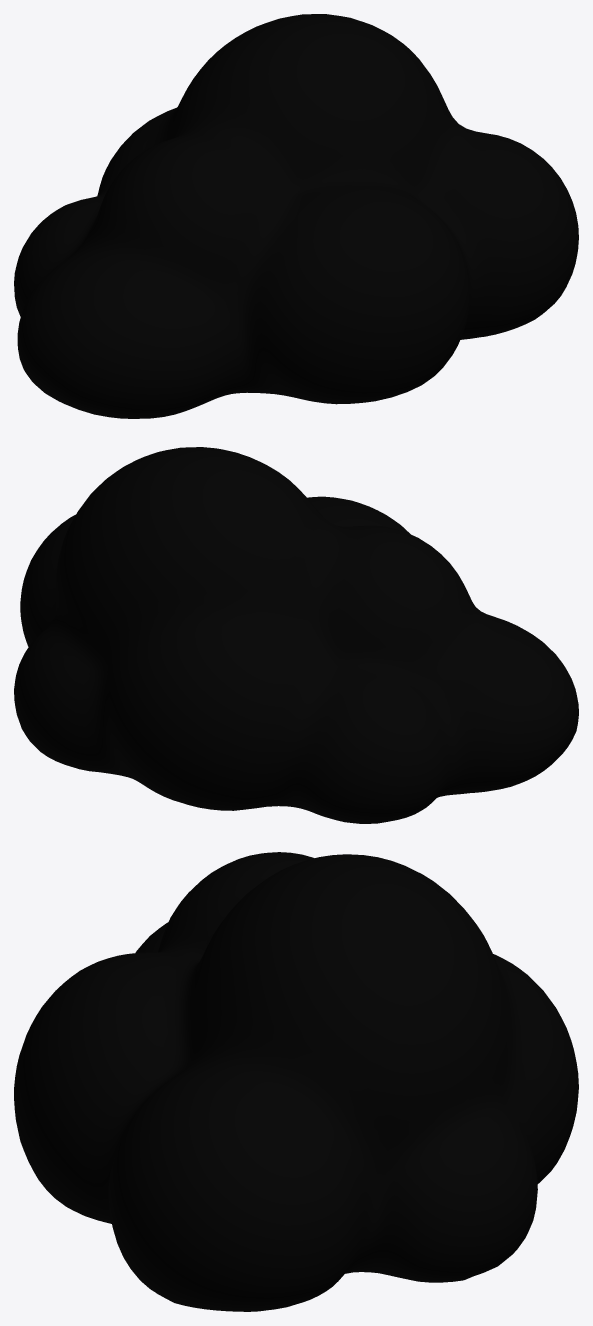
File: cotton_candy_cloud.FBX
3 renders of one model, top to bottom at view 1: azimuth 30°, elevation 25°; view 2: azimuth 150°, elevation 25°; view 3: azimuth 270°, elevation 25°, orthographic. The views are drawn at different scales.
Visible parts, largest first — view 1: node_id055; view 2: node_id055; view 3: node_id055.
Part boxes in pixels (x1=…): node_id055: x1=14, y1=14, x2=578, y2=418; node_id055: x1=14, y1=447, x2=578, y2=823; node_id055: x1=14, y1=852, x2=578, y2=1311.
Size of the model in its own units: 64.4 by 32.77 by 48.08.
